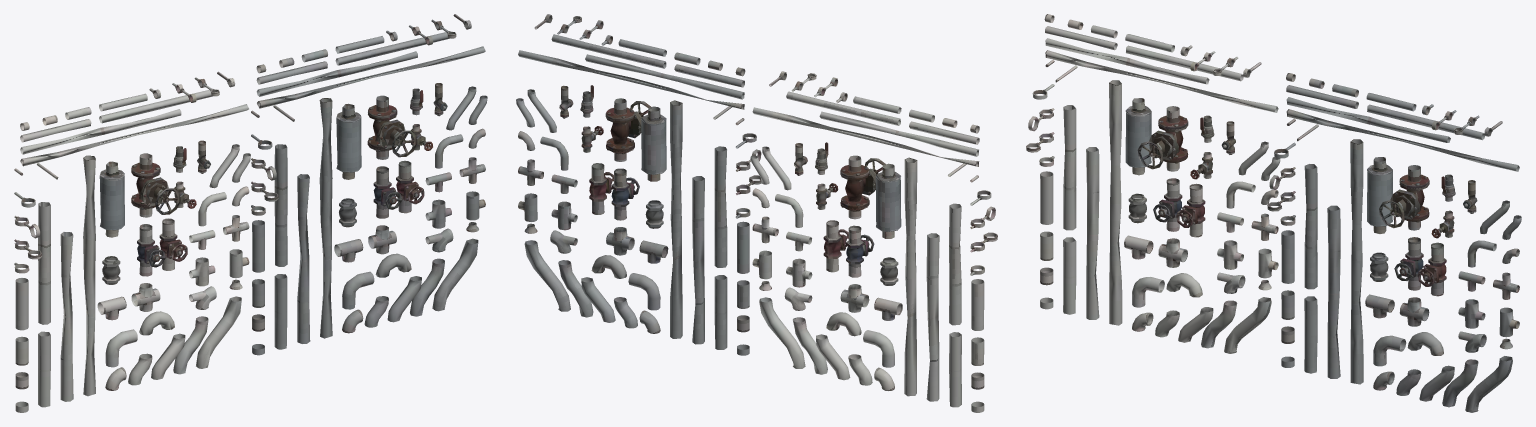
Rendered from modular_pipes.glb.
3 views of the same model, side by side, from view 1: azimuth 30°, elevation 25°; view 2: azimuth 150°, elevation 25°; view 3: azimuth 330°, elevation 25° (orthographic). The views are drawn at different scales.
Visible parts, largest first — view 1: pipe_200cm_pvc, pipe_200cm_metal, pipe_140cm_pvc, pipe_140cm_metal, pipe_valve_large_pvc, pipe_valve_large_metal, pipe_chamber_large_metal, pipe_chamber_large_pvc, pipe_100cm_metal, pipe_100cm_pvc, pipe_thin_200cm_metal, pipe_thin_200cm_pvc (+36 smaller); view 2: pipe_200cm_pvc, pipe_200cm_metal, pipe_140cm_metal, pipe_140cm_pvc, pipe_chamber_large_metal, pipe_valve_large_pvc, pipe_valve_large_metal, pipe_chamber_large_pvc, pipe_100cm_metal, pipe_100cm_pvc, pipe_thin_200cm_metal, pipe_thin_200cm_pvc (+35 smaller); view 3: pipe_200cm_metal, pipe_200cm_pvc, pipe_140cm_metal, pipe_140cm_pvc, pipe_valve_large_pvc, pipe_valve_large_metal, pipe_100cm_pvc, pipe_100cm_metal, pipe_chamber_large_pvc, pipe_chamber_large_metal, pipe_thin_200cm_pvc, pipe_thin_200cm_metal (+33 smaller).
Boxes of the visible parts, left/top/right/bottom form: pipe_200cm_pvc: left=83, top=155, right=95, bottom=396; pipe_200cm_metal: left=319, top=98, right=332, bottom=338; pipe_140cm_pvc: left=60, top=232, right=73, bottom=401; pipe_140cm_metal: left=297, top=174, right=310, bottom=343; pipe_valve_large_pvc: left=131, top=153, right=180, bottom=217; pipe_valve_large_metal: left=367, top=95, right=417, bottom=159; pipe_chamber_large_metal: left=336, top=103, right=361, bottom=179; pipe_chamber_large_pvc: left=99, top=161, right=124, bottom=237; pipe_100cm_metal: left=274, top=144, right=287, bottom=266; pipe_100cm_pvc: left=38, top=202, right=50, bottom=324; pipe_thin_200cm_metal: left=257, top=46, right=485, bottom=108; pipe_thin_200cm_pvc: left=20, top=104, right=248, bottom=166; pipe_200cm_pvc: left=904, top=157, right=917, bottom=396; pipe_200cm_metal: left=670, top=100, right=682, bottom=338; pipe_140cm_metal: left=692, top=176, right=704, bottom=344; pipe_140cm_pvc: left=926, top=233, right=939, bottom=401; pipe_chamber_large_metal: left=641, top=106, right=666, bottom=181; pipe_valve_large_pvc: left=840, top=155, right=885, bottom=219; pipe_valve_large_metal: left=605, top=98, right=650, bottom=161; pipe_chamber_large_pvc: left=875, top=163, right=901, bottom=238; pipe_100cm_metal: left=714, top=146, right=727, bottom=267; pipe_100cm_pvc: left=949, top=203, right=961, bottom=325; pipe_thin_200cm_metal: left=518, top=50, right=744, bottom=109; pipe_thin_200cm_pvc: left=752, top=107, right=979, bottom=166; pipe_200cm_metal: left=1350, top=139, right=1363, bottom=384; pipe_200cm_pvc: left=1109, top=80, right=1122, bottom=325; pipe_140cm_metal: left=1327, top=205, right=1340, bottom=378; pipe_140cm_pvc: left=1086, top=147, right=1099, bottom=319; pipe_valve_large_pvc: left=1137, top=106, right=1188, bottom=171; pipe_valve_large_metal: left=1379, top=165, right=1429, bottom=230; pipe_100cm_pvc: left=1063, top=105, right=1076, bottom=230; pipe_100cm_metal: left=1304, top=164, right=1317, bottom=289; pipe_chamber_large_pvc: left=1125, top=98, right=1151, bottom=175; pipe_chamber_large_metal: left=1367, top=157, right=1392, bottom=233; pipe_thin_200cm_pvc: left=1045, top=50, right=1278, bottom=112; pipe_thin_200cm_metal: left=1286, top=109, right=1519, bottom=171.
Size of the model in its own units: 4.19 by 2.43 by 0.4527.
2 materials, 2 textured.
